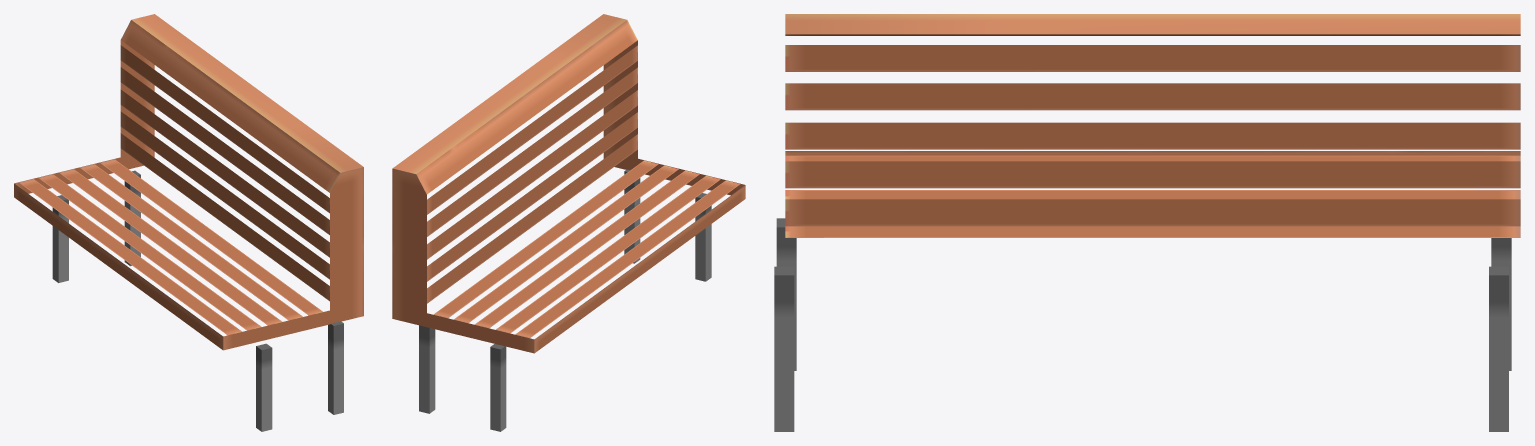
Rendered from Chair_Bench.obj.
3 renders of one model, left to right at view 1: azimuth 30°, elevation 25°; view 2: azimuth 150°, elevation 25°; view 3: azimuth 270°, elevation 25°, orthographic. The views are drawn at different scales.
Parts seen in each view (by area): view 1: Chair_Bench; view 2: Chair_Bench; view 3: Chair_Bench.
Part boxes in pixels (x1,y1,x2,y2): Chair_Bench: (14,14,363,431); Chair_Bench: (392,14,745,431); Chair_Bench: (774,14,1520,431).
Size of the model in its own units: 0.7219 by 1.16 by 1.89.
